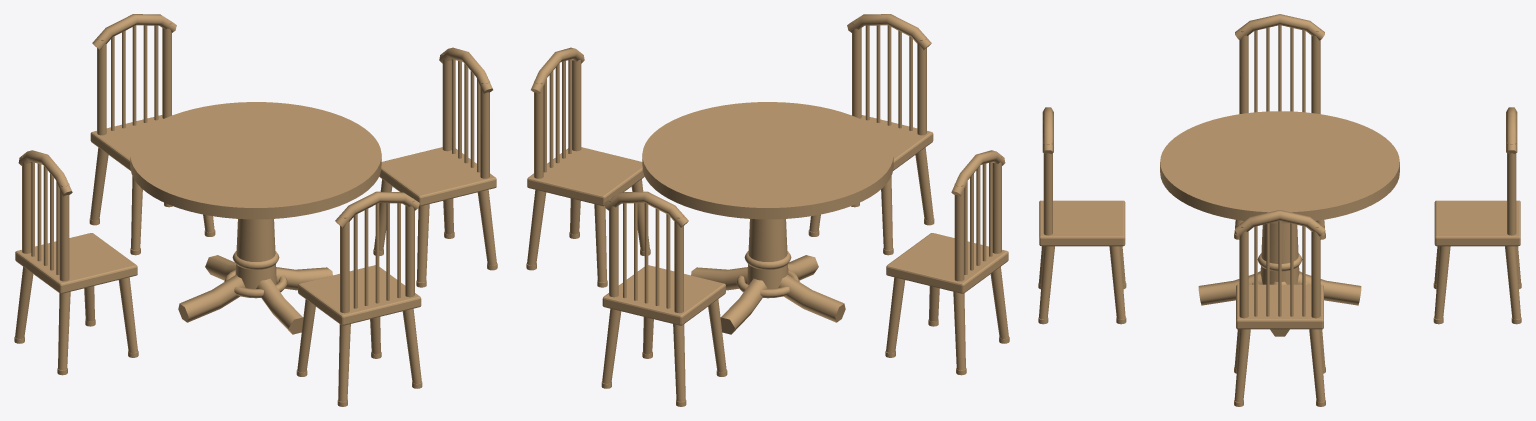
Rendered from kitchen_set_round_oak.glb.
3 renders of one model, left to right at view 1: azimuth 30°, elevation 25°; view 2: azimuth 150°, elevation 25°; view 3: azimuth 270°, elevation 25°, orthographic. The views are drawn at different scales.
Visible parts, largest first — view 1: Round oak tabletop, Oak spindle chair 2 seat, Oak spindle chair 4 seat, Oak spindle chair 1 seat, Turned pedestal column, Oak spindle chair 3 seat, Pedestal splayed foot.002, Pedestal splayed foot.003, Oak spindle chair 1 curved back crest, Oak spindle chair 3 curved back crest, Oak spindle chair 4 back post, Oak spindle chair 1 back post (+32 smaller); view 2: Round oak tabletop, Oak spindle chair 2 seat, Oak spindle chair 4 seat, Oak spindle chair 3 seat, Turned pedestal column, Oak spindle chair 1 seat, Pedestal splayed foot.002, Pedestal splayed foot.001, Oak spindle chair 3 curved back crest, Oak spindle chair 1 curved back crest, Oak spindle chair 4 back post.001, Oak spindle chair 4 back post (+32 smaller); view 3: Round oak tabletop, Oak spindle chair 1 seat, Oak spindle chair 3 seat, Oak spindle chair 2 seat, Turned pedestal column, Oak spindle chair 2 curved back crest, Oak spindle chair 4 curved back crest, Pedestal splayed foot.001, Pedestal splayed foot.003, Oak spindle chair 2 back post, Oak spindle chair 2 back post.001, Oak spindle chair 3 back post.001 (+11 smaller).
Part boxes in pixels (box(x1,y1,x2,y2)): Round oak tabletop: box(130, 102, 381, 219); Oak spindle chair 2 seat: box(379, 147, 496, 206); Oak spindle chair 4 seat: box(15, 233, 137, 293); Oak spindle chair 1 seat: box(298, 265, 421, 325); Turned pedestal column: box(235, 219, 276, 288); Oak spindle chair 3 seat: box(90, 115, 172, 170); Pedestal splayed foot.002: box(178, 274, 245, 322); Pedestal splayed foot.003: box(256, 278, 303, 334); Oak spindle chair 1 curved back crest: box(335, 191, 419, 227); Oak spindle chair 3 curved back crest: box(92, 14, 176, 50); Oak spindle chair 4 back post: box(59, 183, 69, 281); Oak spindle chair 1 back post: box(405, 198, 414, 297); Round oak tabletop: box(642, 102, 893, 219); Oak spindle chair 2 seat: box(527, 147, 644, 206); Oak spindle chair 4 seat: box(886, 233, 1008, 293); Oak spindle chair 3 seat: box(602, 265, 725, 325); Turned pedestal column: box(747, 219, 788, 288); Oak spindle chair 1 seat: box(851, 115, 933, 170); Pedestal splayed foot.002: box(778, 274, 845, 322); Pedestal splayed foot.001: box(720, 278, 767, 334); Oak spindle chair 3 curved back crest: box(604, 191, 688, 227); Oak spindle chair 1 curved back crest: box(847, 14, 931, 50); Oak spindle chair 4 back post.001: box(954, 183, 964, 281); Oak spindle chair 4 back post: box(992, 156, 1001, 253); Round oak tabletop: box(1160, 111, 1399, 223); Oak spindle chair 1 seat: box(1039, 200, 1125, 246); Oak spindle chair 3 seat: box(1434, 200, 1520, 246); Oak spindle chair 2 seat: box(1236, 284, 1323, 329); Turned pedestal column: box(1260, 223, 1299, 284); Oak spindle chair 2 curved back crest: box(1235, 210, 1324, 236); Oak spindle chair 4 curved back crest: box(1235, 14, 1324, 40); Pedestal splayed foot.001: box(1297, 272, 1361, 305); Pedestal splayed foot.003: box(1198, 272, 1262, 305); Oak spindle chair 2 back post: box(1311, 225, 1320, 318); Oak spindle chair 2 back post.001: box(1239, 225, 1248, 318); Oak spindle chair 3 back post.001: box(1507, 142, 1516, 235).
Bounding box in the file's own units: 2.42 × 1.06 × 2.42.
